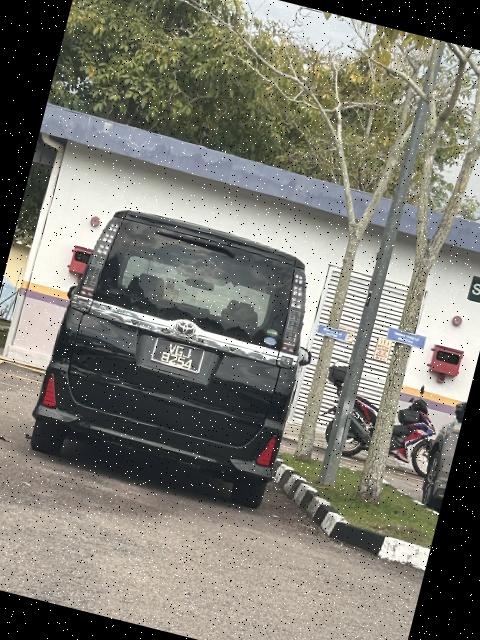License_Plate: (150, 338, 209, 376)
car: (22, 195, 335, 514)
